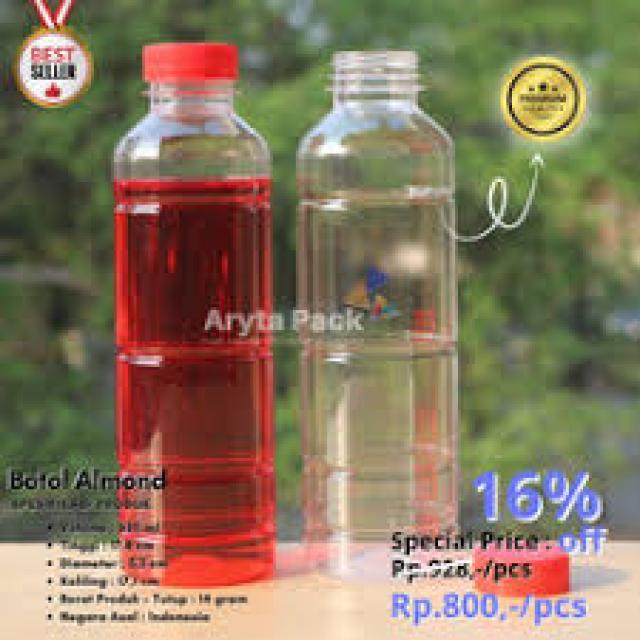bottle: (286, 20, 467, 598), (102, 35, 286, 599)
cap: (142, 40, 236, 87)
